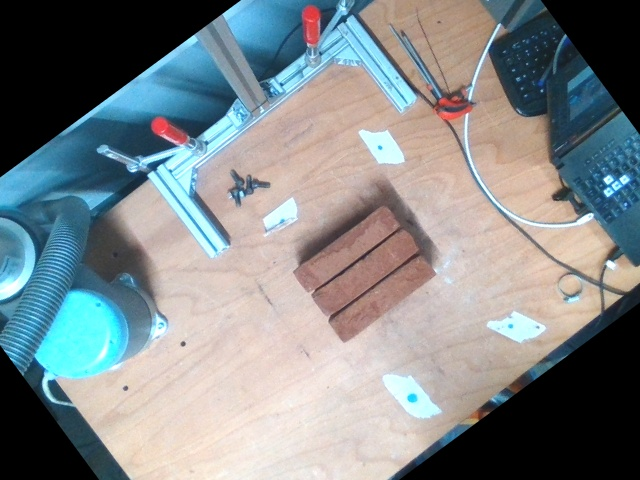brick-side: (310, 223, 422, 317), (328, 249, 440, 343), (293, 203, 405, 296)
